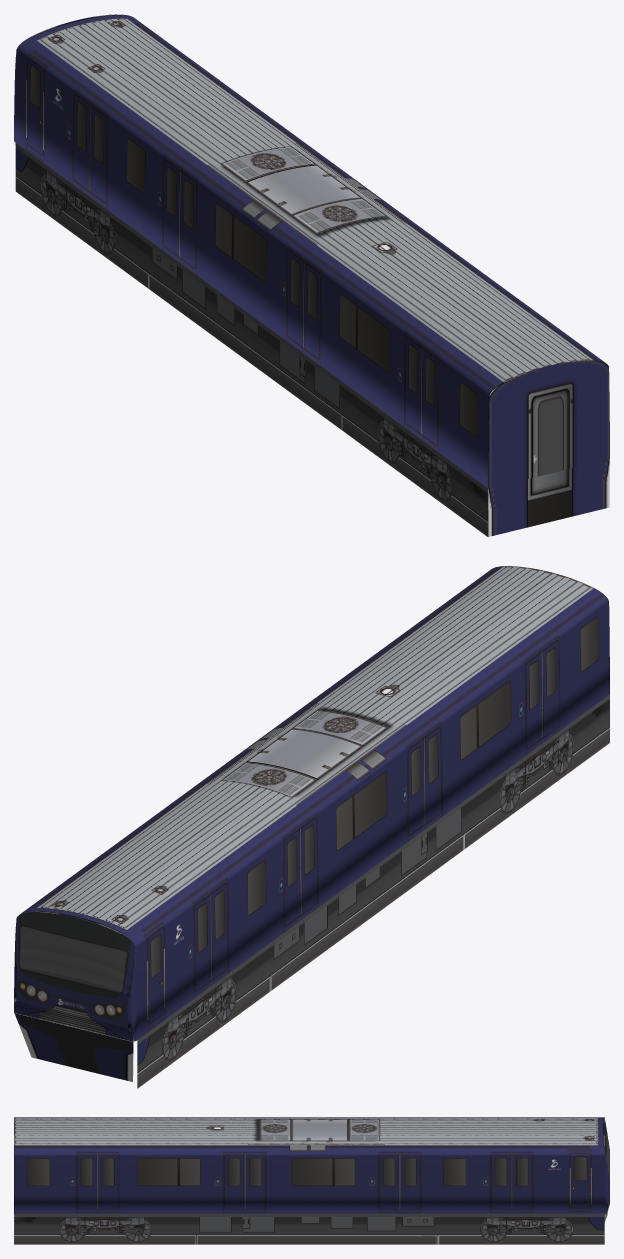
File: car10.glb
3 views of the same model, one above another, from view 1: azimuth 30°, elevation 25°; view 2: azimuth 150°, elevation 25°; view 3: azimuth 270°, elevation 25° (orthographic). The views are drawn at different scales.
Visible parts, largest first — view 1: sotetsu-12000-car10; view 2: sotetsu-12000-car10; view 3: sotetsu-12000-car10.
Part boxes in pixels (x1,y1,x2,y2): sotetsu-12000-car10: [14, 14, 609, 536]; sotetsu-12000-car10: [14, 566, 609, 1088]; sotetsu-12000-car10: [14, 1117, 609, 1244].
Bounding box in the file's own units: 2.95 × 3.62 × 20.03.
Materials: 9 (8 with a texture image).
